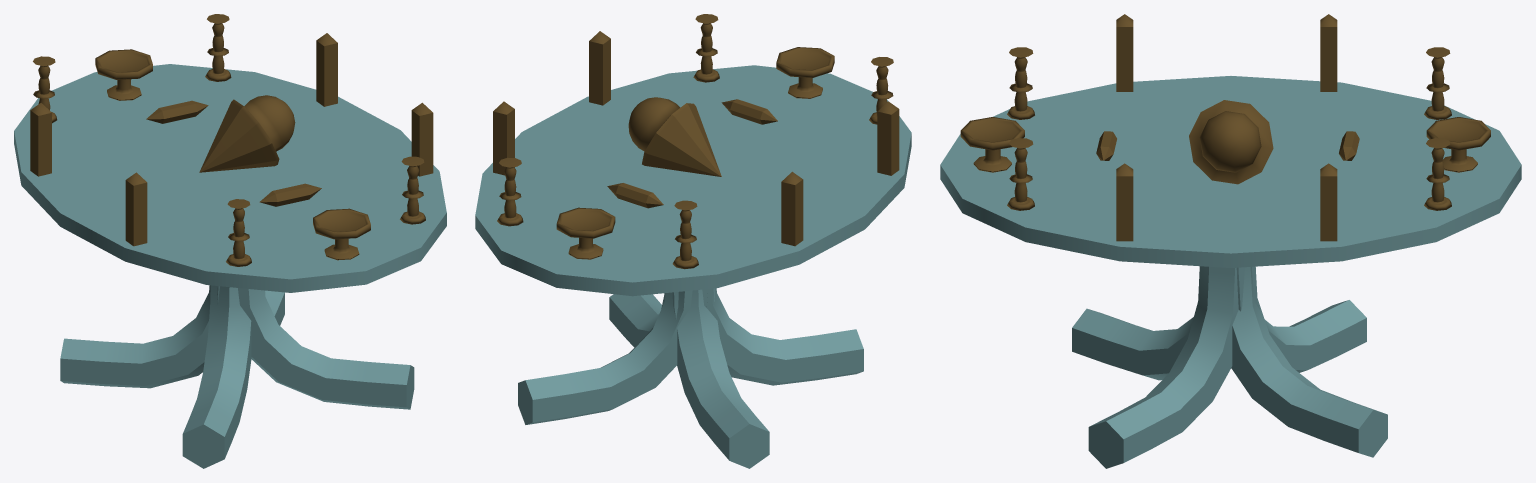
Rendered from mesa5Invo.fbx.
The picture shows the model from 3 angles, left to right: view 1: azimuth 30°, elevation 25°; view 2: azimuth 150°, elevation 25°; view 3: azimuth 270°, elevation 25°; orthographic projection. The views are drawn at different scales.
Parts seen in each view (by area): view 1: pCylinder573, polySurface5355, pSphere34, pCylinder578, pCylinder568, pCylinder579, pCylinder574, pCylinder564, pCylinder569, polySurface5354, polySurface5351, polySurface5352 (+3 smaller); view 2: pCylinder573, polySurface5355, pSphere34, pCylinder578, pCylinder568, pCylinder574, pCylinder579, pCylinder569, pCylinder564, polySurface5354, polySurface5353, polySurface5352 (+3 smaller); view 3: pCylinder573, polySurface5355, pSphere34, pCylinder568, pCylinder578, pCylinder564, pCylinder569, pCylinder574, pCylinder579, polySurface5351, polySurface5352, polySurface5353 (+1 smaller).
Boxes of the visible parts, box(x1,y1,x2,y2) form: pCylinder573: box(14, 64, 446, 292); polySurface5355: box(60, 285, 414, 468); pSphere34: box(199, 95, 295, 172); pCylinder578: box(95, 49, 152, 100); pCylinder568: box(313, 208, 370, 260); pCylinder579: box(125, 172, 147, 246); pCylinder574: box(30, 103, 51, 176); pCylinder564: box(316, 33, 337, 106); pCylinder569: box(411, 102, 433, 176); polySurface5354: box(205, 14, 231, 81); polySurface5351: box(226, 199, 251, 266); polySurface5352: box(400, 156, 425, 224); pCylinder573: box(475, 65, 911, 296); polySurface5355: box(518, 288, 863, 468); pSphere34: box(628, 97, 721, 176); pCylinder578: box(556, 207, 615, 259); pCylinder568: box(776, 47, 834, 98); pCylinder574: box(781, 171, 803, 246); pCylinder579: box(877, 101, 899, 175); pCylinder569: box(589, 31, 610, 105); pCylinder564: box(493, 101, 514, 175); polySurface5354: box(497, 157, 523, 226); polySurface5353: box(672, 200, 698, 269); polySurface5352: box(693, 14, 719, 82); pCylinder573: box(940, 76, 1521, 267); polySurface5355: box(1072, 266, 1387, 468); pSphere34: box(1189, 100, 1273, 184); pCylinder568: box(960, 117, 1024, 172); pCylinder578: box(1426, 117, 1490, 172); pCylinder564: box(1320, 163, 1337, 241); pCylinder569: box(1116, 163, 1133, 241); pCylinder574: box(1320, 14, 1337, 91); pCylinder579: box(1116, 14, 1133, 91); polySurface5351: box(1007, 47, 1034, 119); polySurface5352: box(1007, 138, 1034, 210); polySurface5353: box(1424, 47, 1451, 119).
Bounding box in the file's own units: 181 × 150 × 250.
